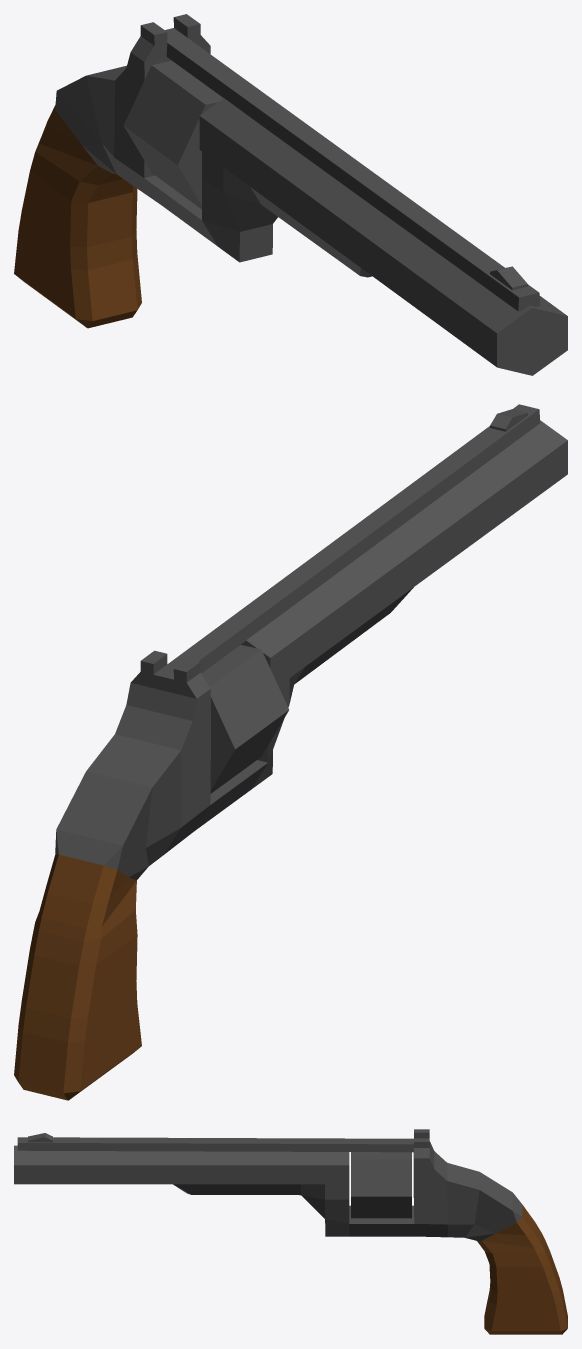
The model's file is HandCannon.glb.
The picture shows the model from 3 angles, top to bottom: view 1: azimuth 30°, elevation 25°; view 2: azimuth 150°, elevation 25°; view 3: azimuth 270°, elevation 25°; orthographic projection. The views are drawn at different scales.
Parts seen in each view (by area): view 1: Stock, ReloadWheel; view 2: Stock, ReloadWheel; view 3: Stock, ReloadWheel.
Boxes of the visible parts, x1=… form: Stock: x1=14, y1=14, x2=567, y2=375; ReloadWheel: x1=123, y1=61, x2=223, y2=209; Stock: x1=14, y1=404, x2=567, y2=1100; ReloadWheel: x1=201, y1=645, x2=288, y2=793; Stock: x1=14, y1=1129, x2=567, y2=1334; ReloadWheel: x1=351, y1=1152, x2=411, y2=1218.
Bounding box in the file's own units: 0.3682 × 1.08 × 2.81.
